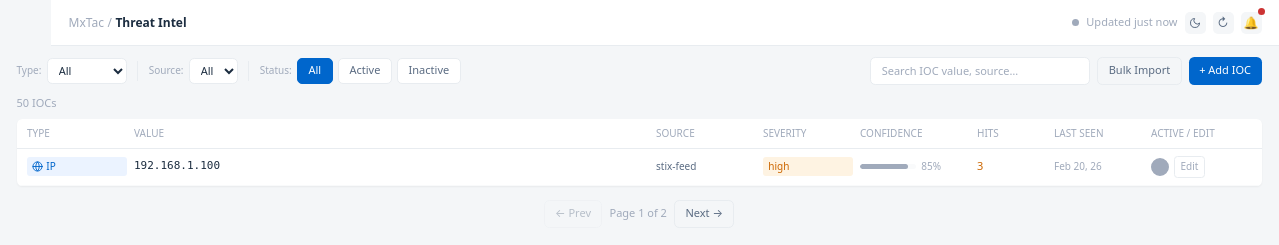
Test: ThreatIntelPage › pagination › Next button is disabled on the last page
Click the button "Next →" at (704, 214), box x1=674 y1=200 x2=734 y2=228
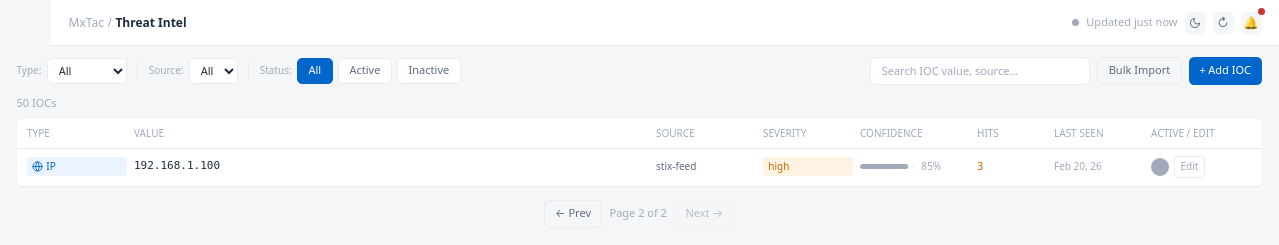
Expected: the button "Next →" is disabled, x1=674 y1=200 x2=734 y2=228
